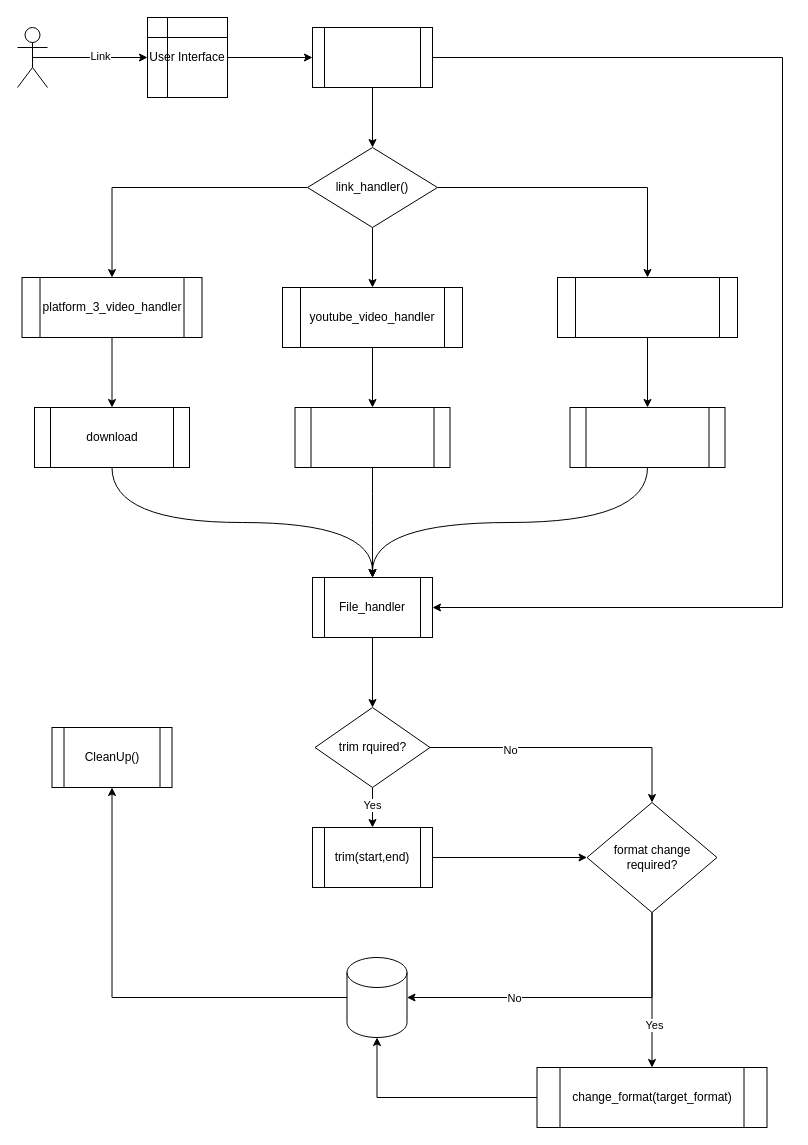
The diagram is 808 pixels wide and 1145 high, and some of its shapes have lost their labels. The shapes that lost their labels are listed below. From the top down, each one's centre as x and y in pixels, then its label:
At point (32, 57): "User".
At point (372, 57): "Session Handler".
At point (647, 307): "platform_2_video_handler".
At point (372, 437): "youtube_download()".
At point (647, 437): "download()".
At point (376, 997): "Save to user PC".
